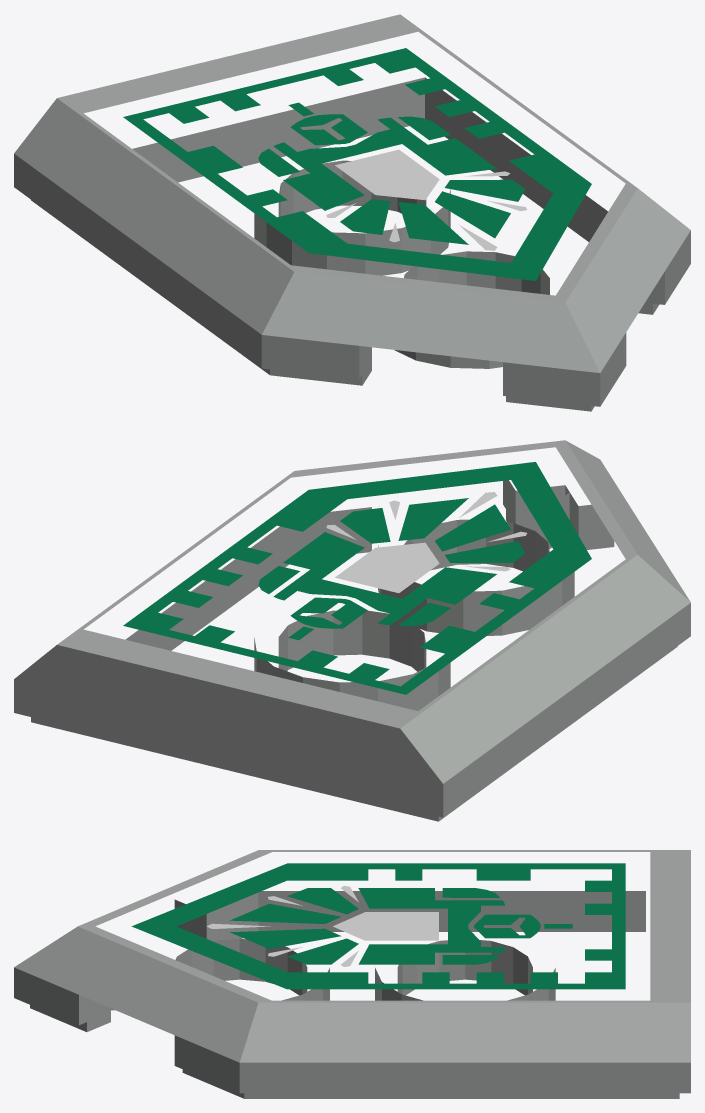
The picture shows the model from 3 angles, top to bottom: view 1: azimuth 30°, elevation 25°; view 2: azimuth 150°, elevation 25°; view 3: azimuth 270°, elevation 25°; orthographic projection. The views are drawn at different scales.
Visible parts, largest first — view 1: world; view 2: world; view 3: world.
Part boxes in pixels (<box>): world: <box>14,14,690,411</box>; world: <box>14,440,690,821</box>; world: <box>14,850,690,1098</box>.
Bounding box in the file's own units: 0.016 × 0.0032 × 0.024.
